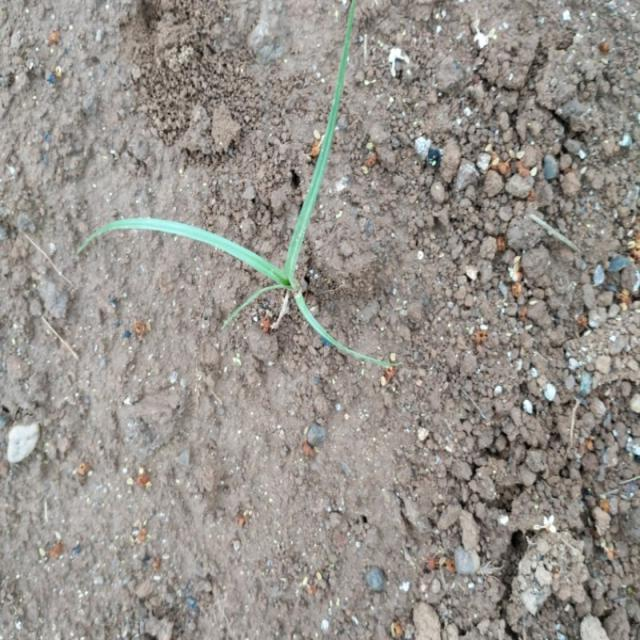sedge: (79, 70, 381, 366)
